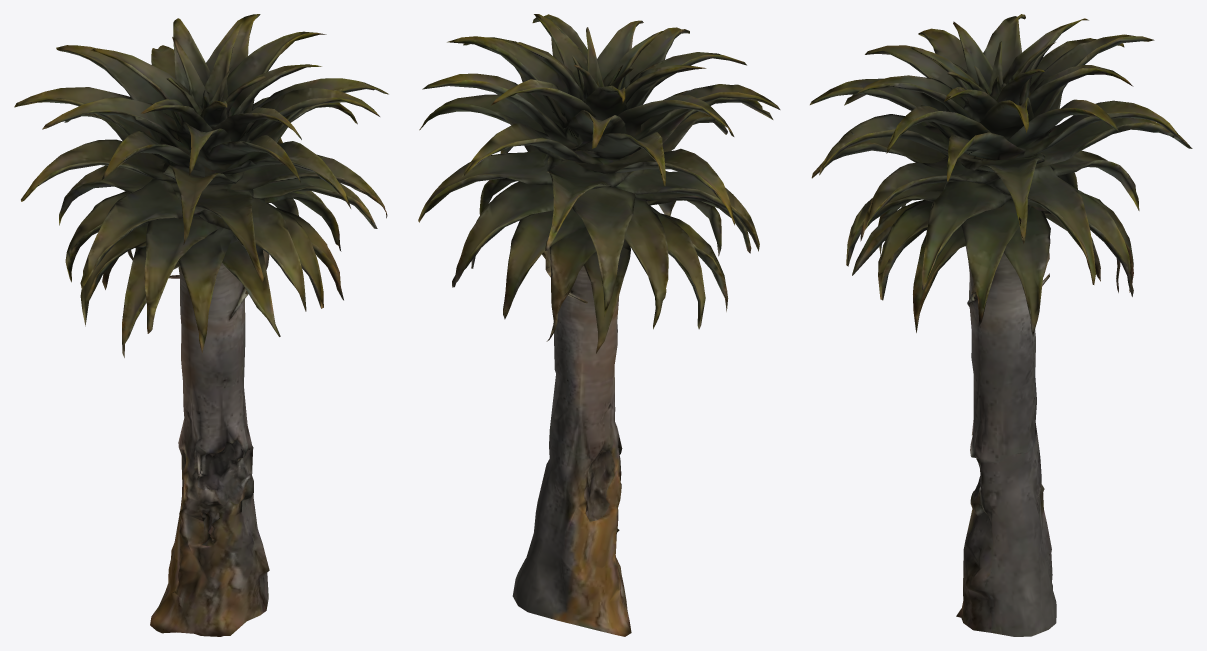
Rendered from quiver_tree_02.glb.
The picture shows the model from 3 angles, left to right: view 1: azimuth 30°, elevation 25°; view 2: azimuth 150°, elevation 25°; view 3: azimuth 270°, elevation 25°; orthographic projection.
Parts seen in each view (by area): view 1: quiver_tree_02; view 2: quiver_tree_02; view 3: quiver_tree_02.
Part boxes in pixels (<box>): quiver_tree_02: <box>14,14,388,636</box>; quiver_tree_02: <box>418,14,780,636</box>; quiver_tree_02: <box>810,14,1192,636</box>.
Bounding box in the file's own units: 0.8716 × 1.47 × 0.8806.
1 material, 1 textured.
